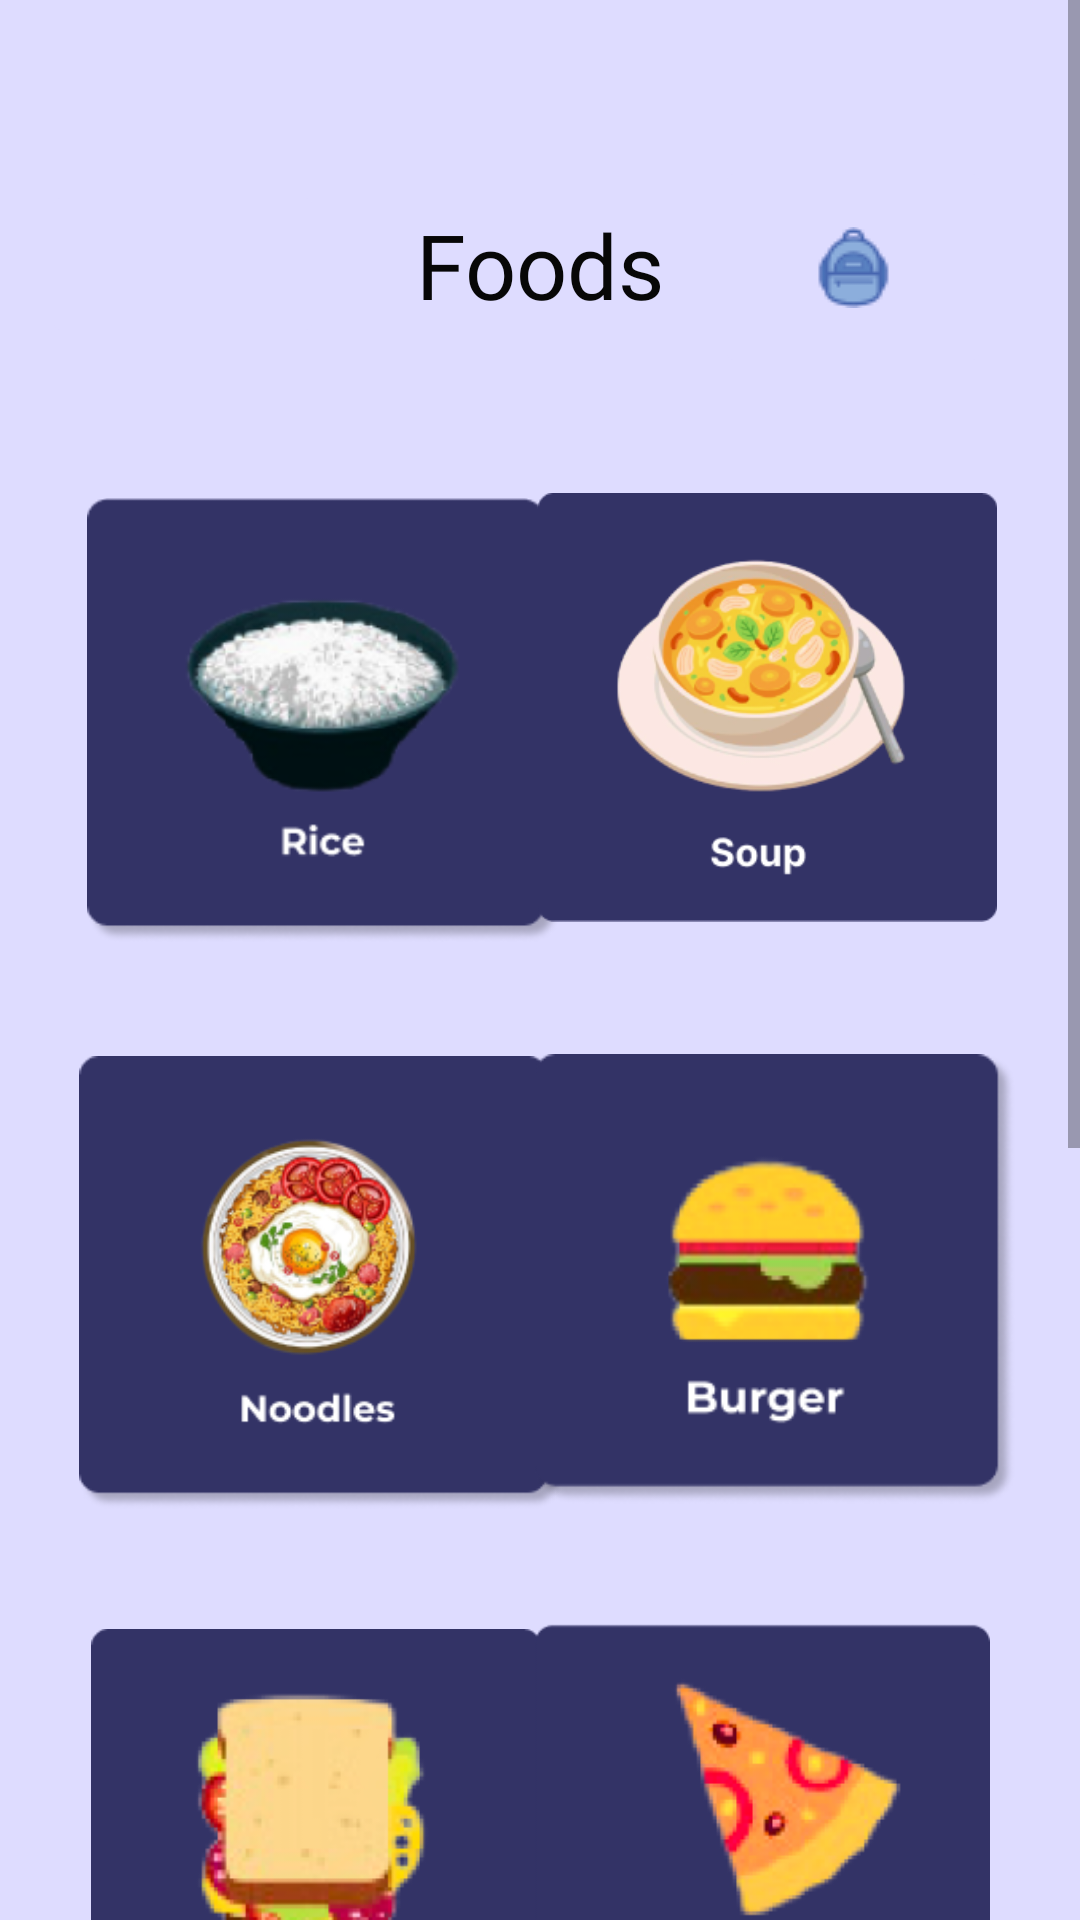

Named icons in this screenshot (1080*1920) and their bounding boxes, box=[x1, y1, x2, y2]:
ransel: box=[818, 227, 889, 308]
